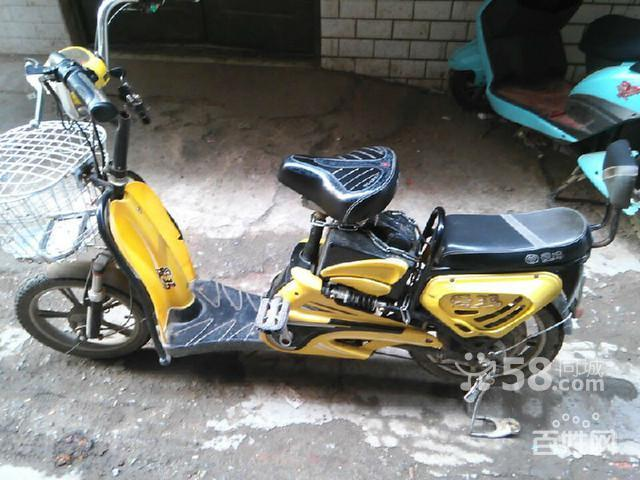电动车: (1, 3, 637, 408)
